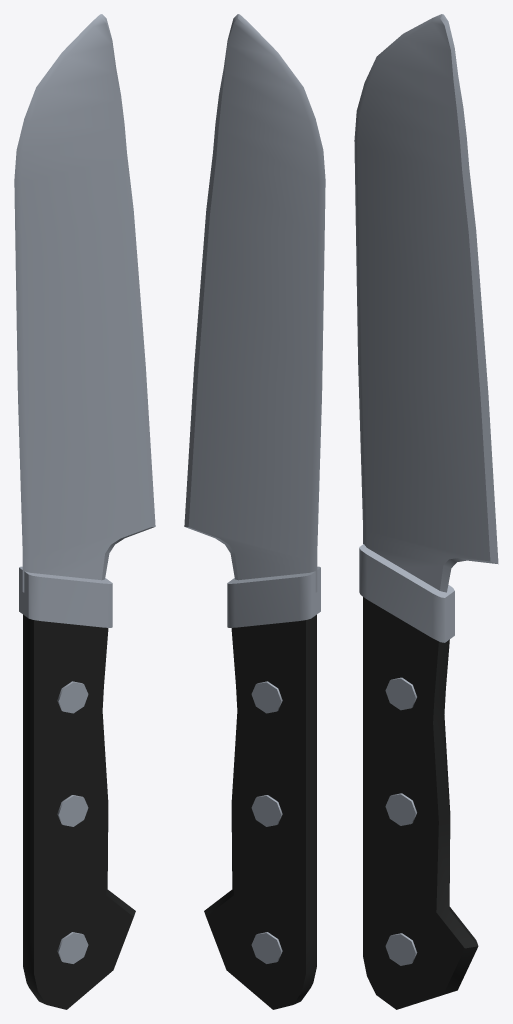
The model's file is cooking_assets_santoku_knife.glb.
3 views of the same model, side by side, from view 1: azimuth 30°, elevation 25°; view 2: azimuth 150°, elevation 25°; view 3: azimuth 330°, elevation 25° (orthographic).
Visible parts, largest first — view 1: knife_santoku_knife_Cube.014; view 2: knife_santoku_knife_Cube.014; view 3: knife_santoku_knife_Cube.014.
Part boxes in pixels (x1,y1,x2,y2): knife_santoku_knife_Cube.014: [14, 14, 155, 1009]; knife_santoku_knife_Cube.014: [184, 14, 325, 1009]; knife_santoku_knife_Cube.014: [354, 14, 498, 1009].
Size of the model in its own units: 1.03 by 6.84 by 0.1754.
1 material, 1 textured.
